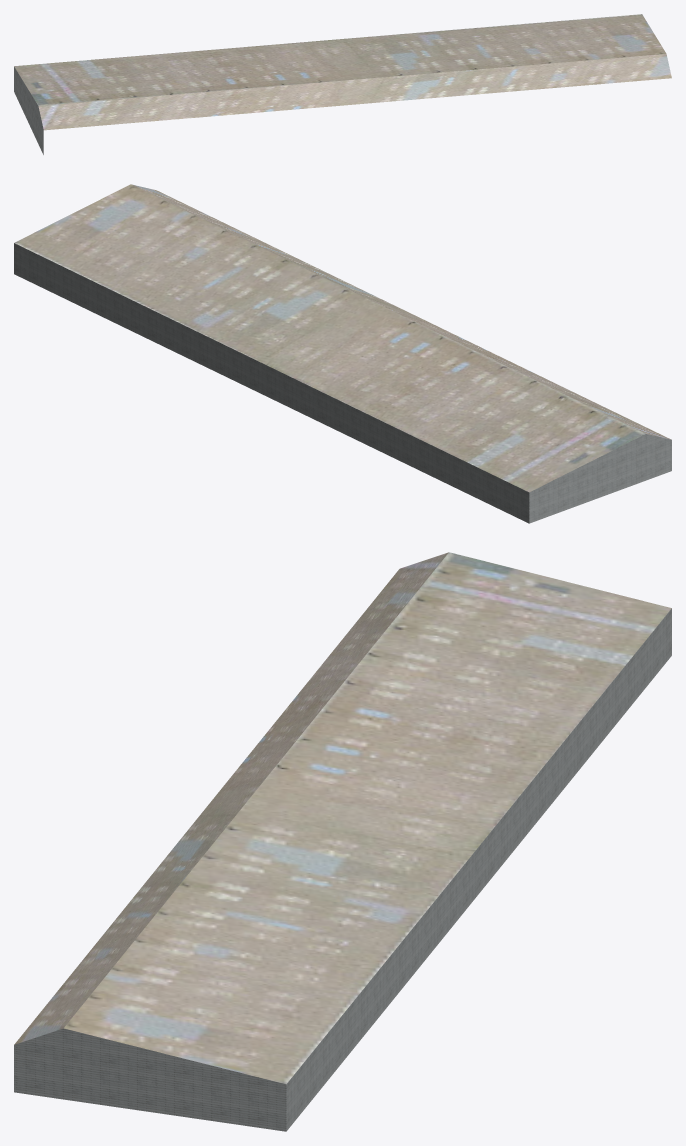
File: GarageHangar1.gltf
The picture shows the model from 3 angles, top to bottom: view 1: azimuth 30°, elevation 25°; view 2: azimuth 150°, elevation 25°; view 3: azimuth 270°, elevation 25°; orthographic projection. The views are drawn at different scales.
Parts seen in each view (by area): view 1: node1, node2; view 2: node1, node2; view 3: node1, node2.
Part boxes in pixels (x1,y1,x2,y2): node1: (14, 14, 671, 130); node2: (14, 66, 43, 154); node1: (14, 184, 670, 492); node2: (14, 243, 671, 523); node1: (14, 552, 671, 1084); node2: (14, 608, 671, 1131).
Bounding box in the file's own units: 93.22 × 6 × 50.28.
